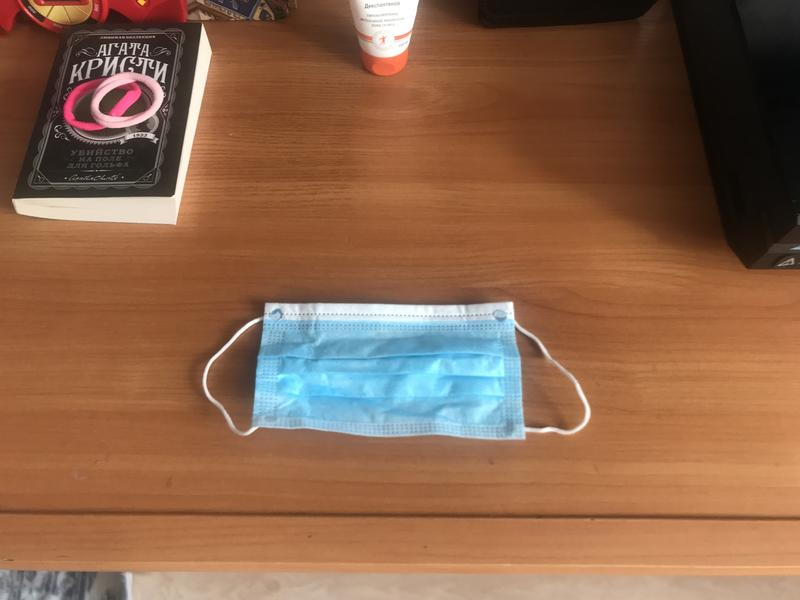medical_mask: (203, 298, 590, 443)
